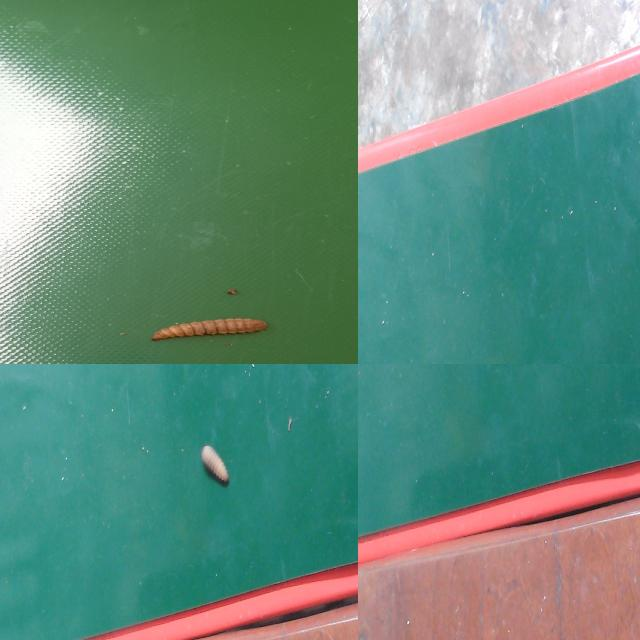Maggot: (151, 317, 269, 344), (199, 445, 230, 488)
